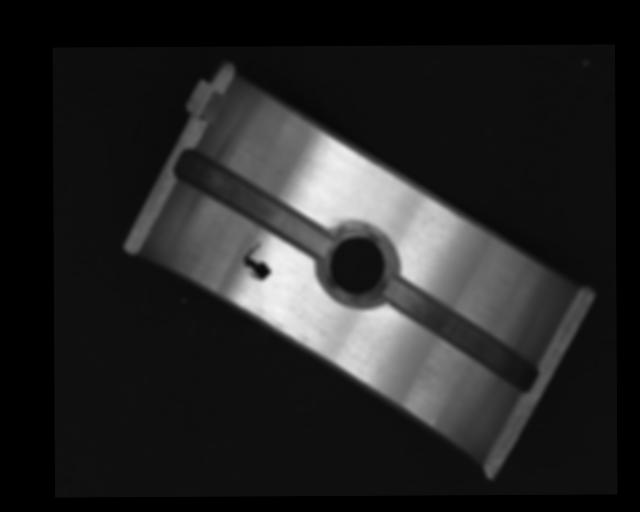blot: (242, 240, 272, 281)
gap: (382, 276, 537, 390), (177, 147, 329, 257)
hole: (322, 227, 388, 300)
